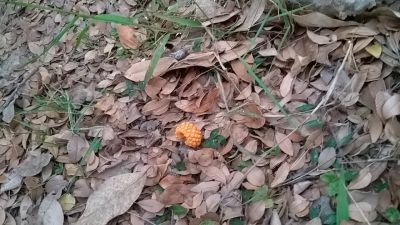eggs: (174, 121, 203, 148)
